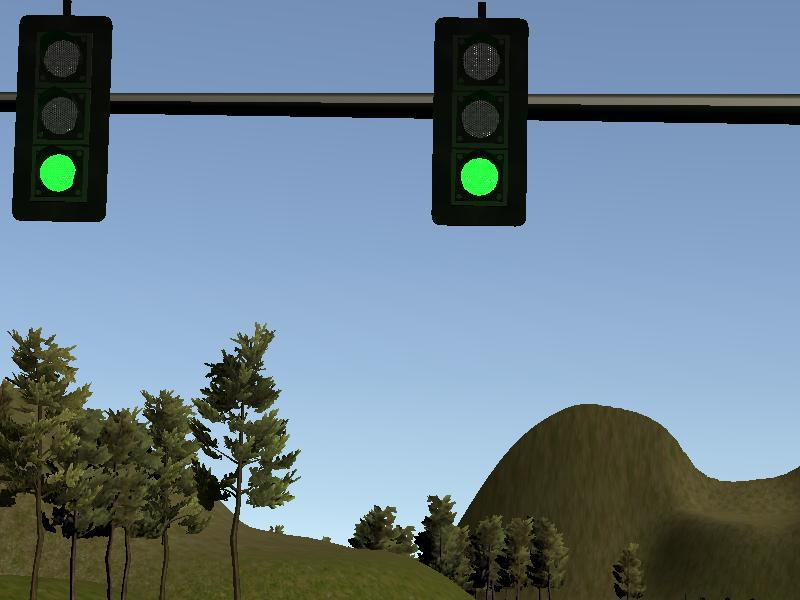Green: (433, 18, 528, 225), (15, 16, 110, 221)
